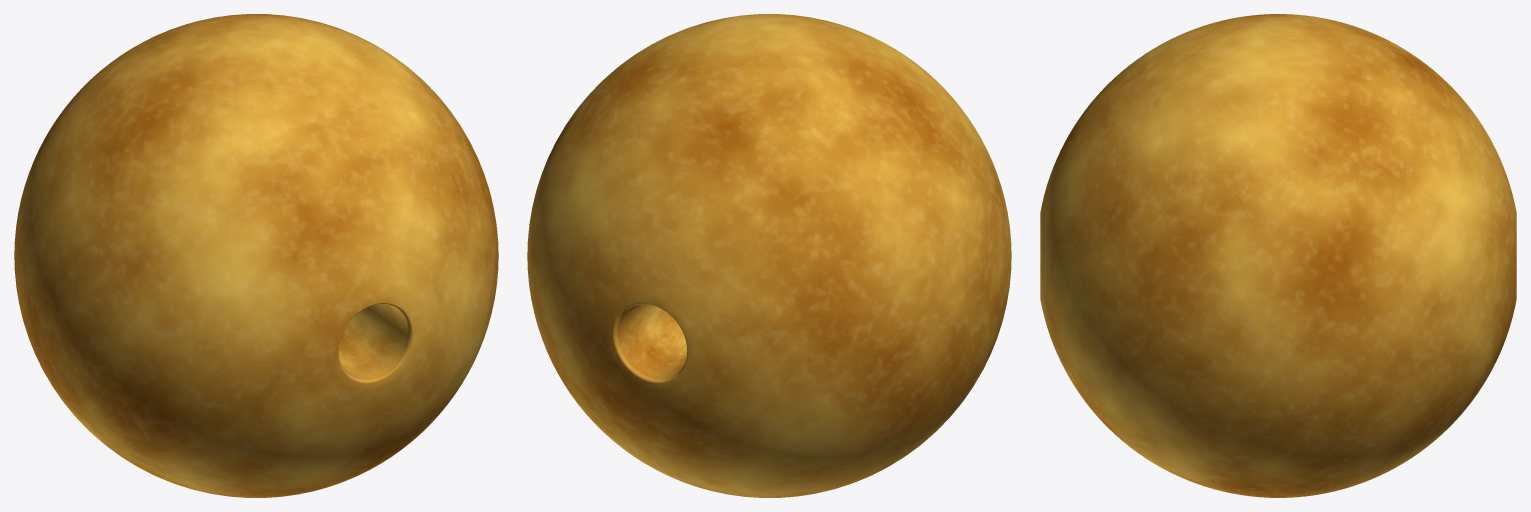
File: yellow-aventurine-6mm.glb
3 views of the same model, side by side, from view 1: azimuth 30°, elevation 25°; view 2: azimuth 150°, elevation 25°; view 3: azimuth 270°, elevation 25° (orthographic).
Parts seen in each view (by area): view 1: yellow-aventurine.001; view 2: yellow-aventurine.001; view 3: yellow-aventurine.001.
Boxes of the visible parts, x1,y1,x2,y2 form: yellow-aventurine.001: (14, 14, 498, 497); yellow-aventurine.001: (527, 14, 1011, 497); yellow-aventurine.001: (1040, 14, 1516, 497).
Size of the model in its own units: 0.006 by 0.006 by 0.0059.
2 materials, 1 textured.
